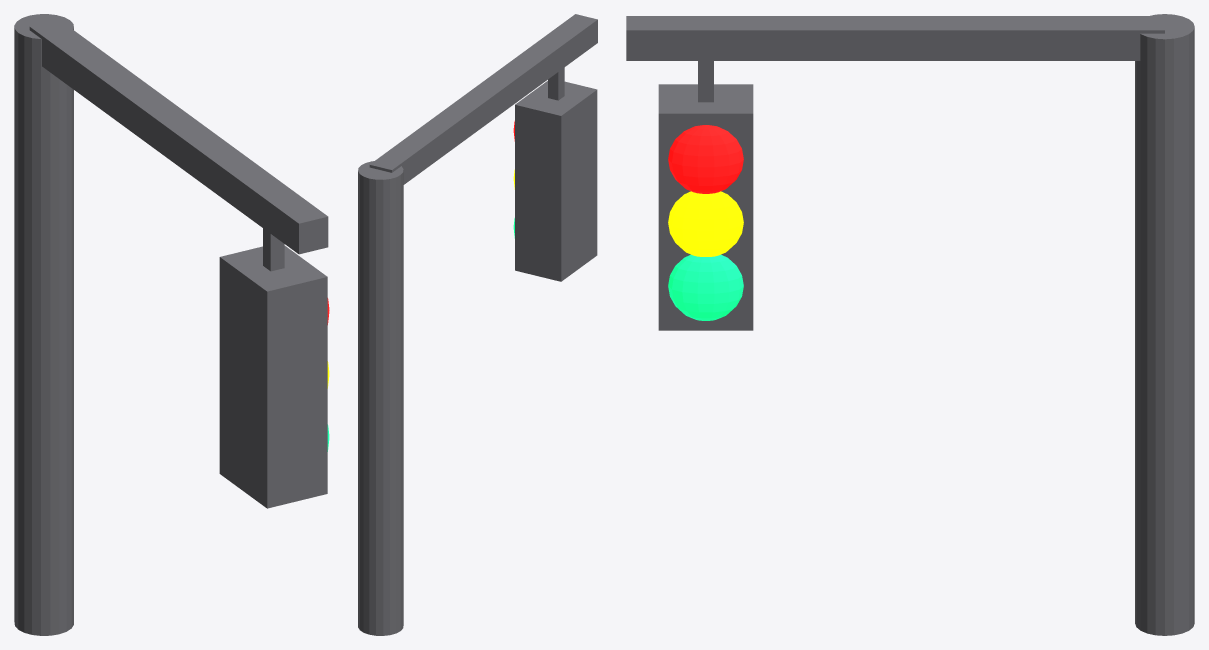
Rendered from traffic_light.fbx.
3 renders of one model, left to right at view 1: azimuth 30°, elevation 25°; view 2: azimuth 150°, elevation 25°; view 3: azimuth 270°, elevation 25°, orthographic. The views are drawn at different scales.
Visible parts, largest first — view 1: Semaforo_cuerpo; view 2: Semaforo_cuerpo; view 3: Semaforo_cuerpo, lamp_red, lamp_green, lamp_yellow.
Boxes of the visible parts, bbox=[...] form: Semaforo_cuerpo: bbox=[14, 14, 328, 635]; Semaforo_cuerpo: bbox=[358, 14, 597, 635]; Semaforo_cuerpo: bbox=[626, 14, 1194, 635]; lamp_red: bbox=[668, 125, 743, 193]; lamp_green: bbox=[668, 254, 743, 320]; lamp_yellow: bbox=[668, 191, 743, 256].
Bounding box in the file's own units: 89.52 × 664 × 570.
